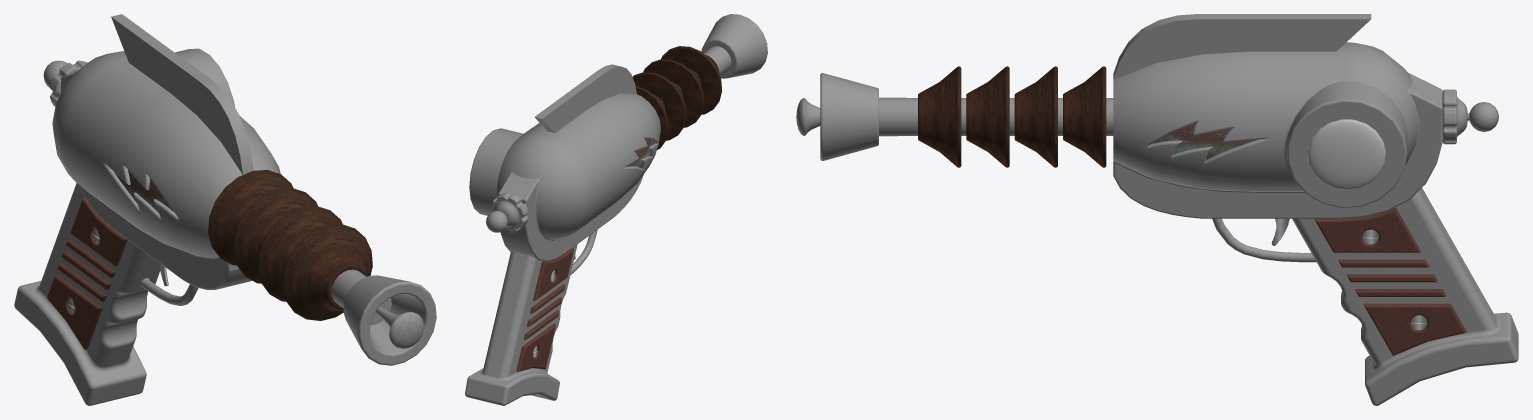
The model's file is gun.fbx.
3 views of the same model, side by side, from view 1: azimuth 30°, elevation 25°; view 2: azimuth 150°, elevation 25°; view 3: azimuth 270°, elevation 25° (orthographic). The views are drawn at different scales.
Parts seen in each view (by area): view 1: 3DGeom~14, BarrelRings, Grip, BarrelEnd, 3DGeom~2, 3DGeom~3, 3DGeom~15, Adjuster; view 2: 3DGeom~14, BarrelRings, Grip, BarrelEnd, Adjuster, 3DGeom~2, EndStop; view 3: 3DGeom~14, BarrelRings, Grip, BarrelEnd, Lens, 3DGeom~2, 3DGeom~15, Adjuster, EndStop.
Part boxes in pixels (x1,y1,x2,y2): 3DGeom~14: [14, 14, 280, 405]; BarrelRings: [208, 170, 372, 320]; Grip: [47, 197, 127, 349]; BarrelEnd: [343, 275, 436, 365]; 3DGeom~2: [331, 269, 398, 327]; 3DGeom~3: [389, 312, 423, 348]; 3DGeom~15: [114, 170, 174, 212]; Adjuster: [50, 60, 87, 106]; 3DGeom~14: [465, 64, 660, 405]; BarrelRings: [632, 46, 721, 149]; Grip: [516, 248, 573, 371]; BarrelEnd: [701, 14, 767, 78]; Adjuster: [490, 192, 528, 232]; 3DGeom~2: [660, 46, 731, 101]; EndStop: [486, 211, 507, 232]; 3DGeom~14: [1113, 14, 1518, 405]; BarrelRings: [918, 66, 1106, 167]; Grip: [1314, 207, 1466, 355]; BarrelEnd: [820, 73, 878, 160]; Lens: [1308, 119, 1385, 189]; 3DGeom~2: [805, 97, 1113, 136]; 3DGeom~15: [1152, 123, 1257, 159]; Adjuster: [1442, 89, 1467, 144]; EndStop: [1467, 102, 1498, 131].
Bounding box in the file's own units: 21.4 × 51.94 × 90.1.
